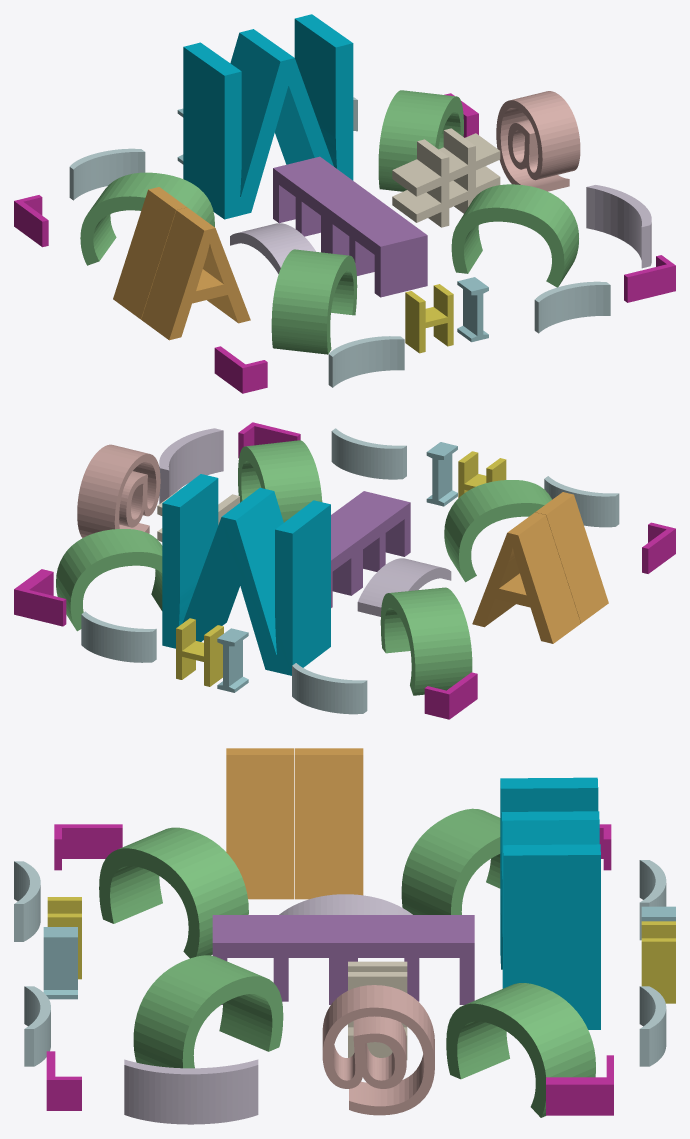
The model's file is space2.glb.
The picture shows the model from 3 angles, top to bottom: view 1: azimuth 30°, elevation 25°; view 2: azimuth 150°, elevation 25°; view 3: azimuth 270°, elevation 25°; orthographic projection. The views are drawn at different scales.
Parts seen in each view (by area): view 1: Mesh_Mesh_head_geo.001_lambert2SG.001; view 2: Mesh_Mesh_head_geo.001_lambert2SG.001; view 3: Mesh_Mesh_head_geo.001_lambert2SG.001.
Part boxes in pixels (x1,y1,x2,y2): Mesh_Mesh_head_geo.001_lambert2SG.001: (14,14,675,393); Mesh_Mesh_head_geo.001_lambert2SG.001: (14,422,675,719); Mesh_Mesh_head_geo.001_lambert2SG.001: (14,748,675,1124).
Bounding box in the file's own units: 186 × 60.52 × 193.
